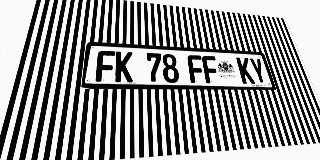7: (145, 53, 163, 83)
8: (162, 53, 179, 83)
F: (95, 50, 115, 82), (201, 55, 220, 83), (187, 55, 205, 83)
K: (115, 51, 133, 82), (236, 57, 255, 84)
Y: (249, 58, 268, 84)
